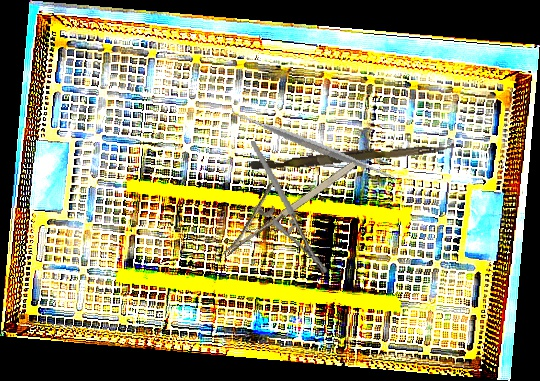Needle Holder: (202, 138, 360, 260), (250, 131, 329, 283)
Pusher: (249, 136, 457, 176)
Spatula Surgical: (230, 63, 399, 228)
